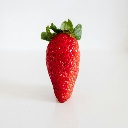strawberry: (41, 17, 83, 105)
